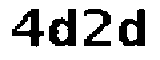2: (80, 6, 118, 53)
4: (8, 6, 46, 52)
d: (116, 4, 150, 51), (48, 4, 81, 52)
